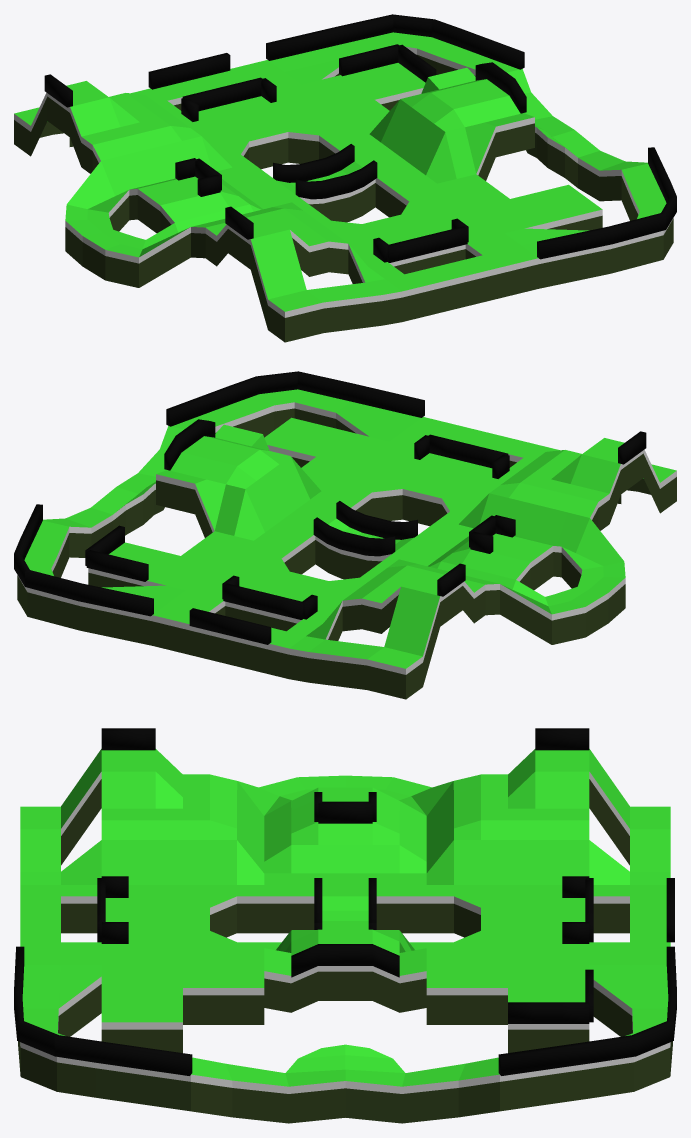
The model's file is groundV2.fbx.
3 views of the same model, one above another, from view 1: azimuth 30°, elevation 25°; view 2: azimuth 150°, elevation 25°; view 3: azimuth 270°, elevation 25° (orthographic). The views are drawn at different scales.
Parts seen in each view (by area): view 1: groundV2; view 2: groundV2; view 3: groundV2.
Part boxes in pixels (bbox=[...]): groundV2: bbox=[14, 14, 676, 342]; groundV2: bbox=[14, 371, 676, 699]; groundV2: bbox=[14, 728, 676, 1123].
Bounding box in the file's own units: 8643 × 1943 × 8152.
